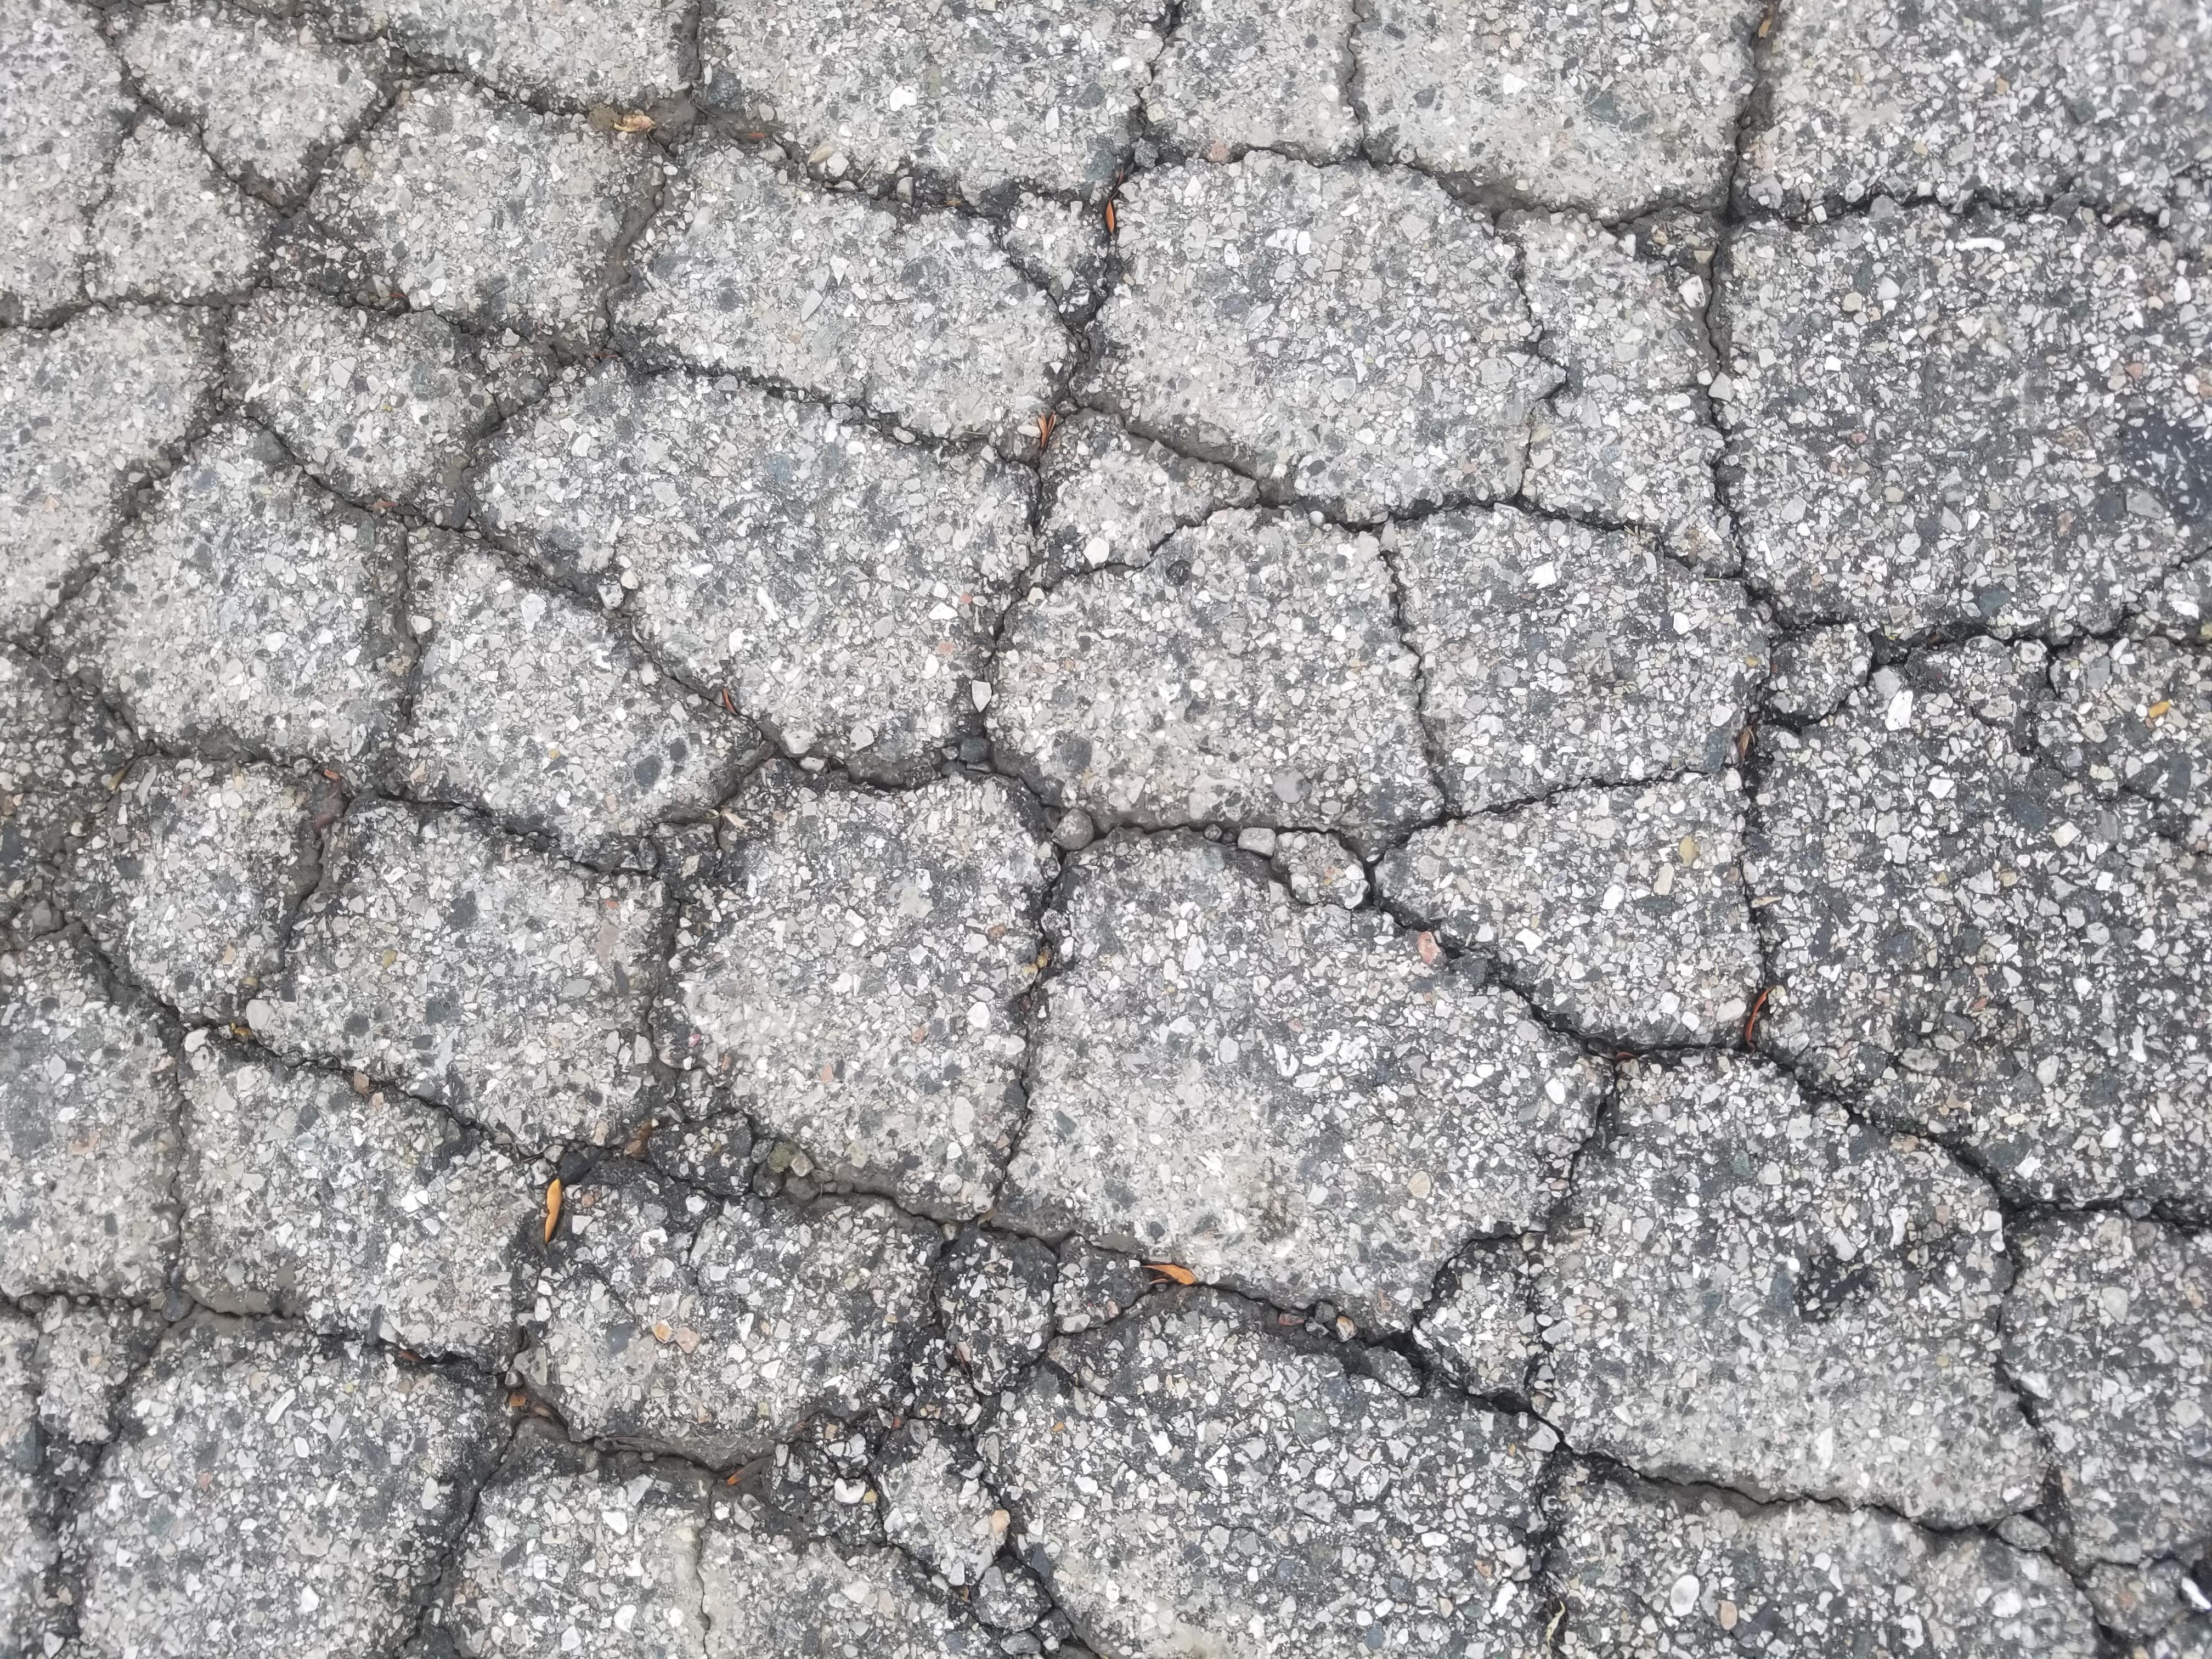alligator-crack: (16, 0, 2212, 1659)
